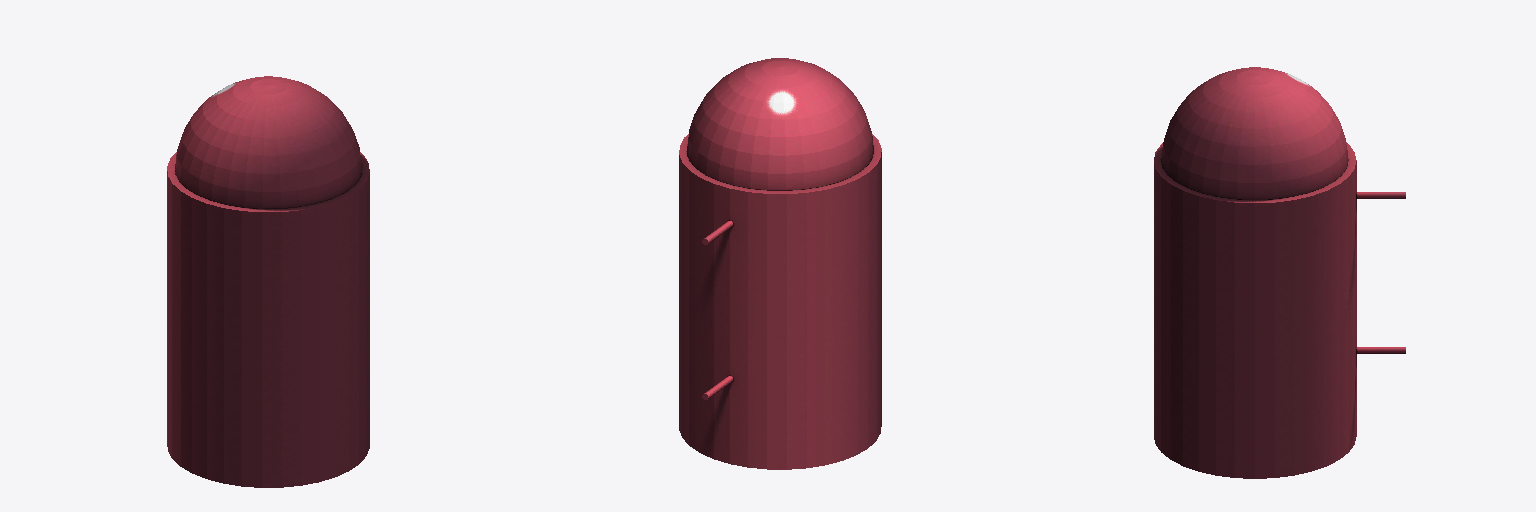
3 views of the same model, side by side, from view 1: azimuth 30°, elevation 25°; view 2: azimuth 150°, elevation 25°; view 3: azimuth 270°, elevation 25° (orthographic).
Parts seen in each view (by area): view 1: Sphere02; view 2: Sphere02; view 3: Sphere02.
Part boxes in pixels (bbox=[...]): Sphere02: bbox=[167, 76, 369, 487]; Sphere02: bbox=[679, 58, 881, 469]; Sphere02: bbox=[1154, 67, 1405, 478].
Bounding box in the file's own units: 401 × 784 × 499.
Materials: 1 (1 with a texture image).